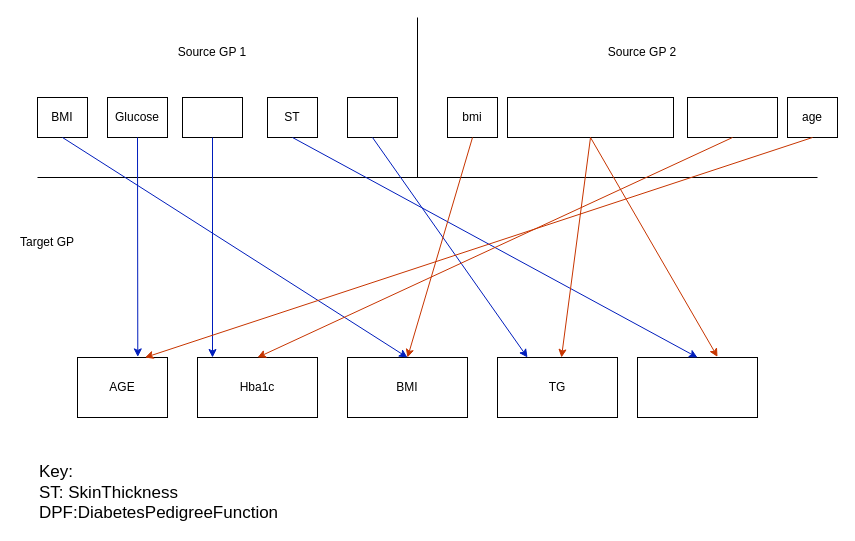
Image size: 855x541. Some labels were removed from this diagram. The shapes that lost their labels are listed below. From the top down, each one's centre as x and y in pixels, then its label:
At pixel 212 117: "Insulin".
At pixel 372 117: "DPF".
At pixel 590 117: "blood_glucose_level".
At pixel 732 117: "Hba1c_level".
At pixel 697 387: "Chol".
